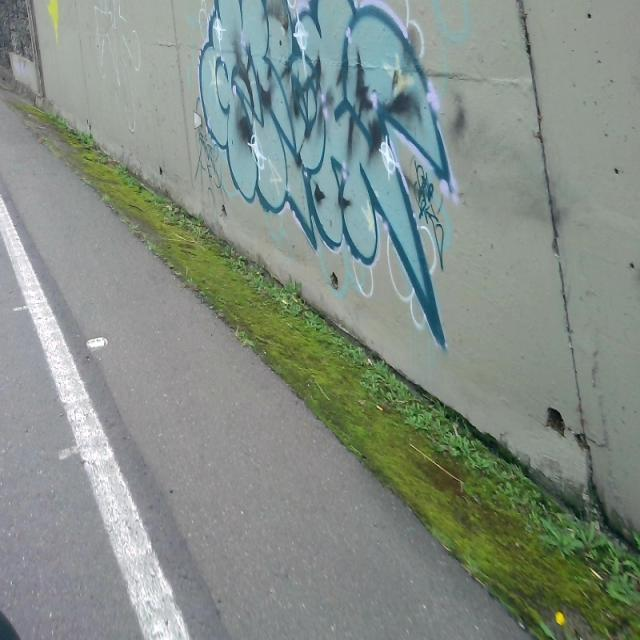DITCH: (2, 91, 637, 638)
